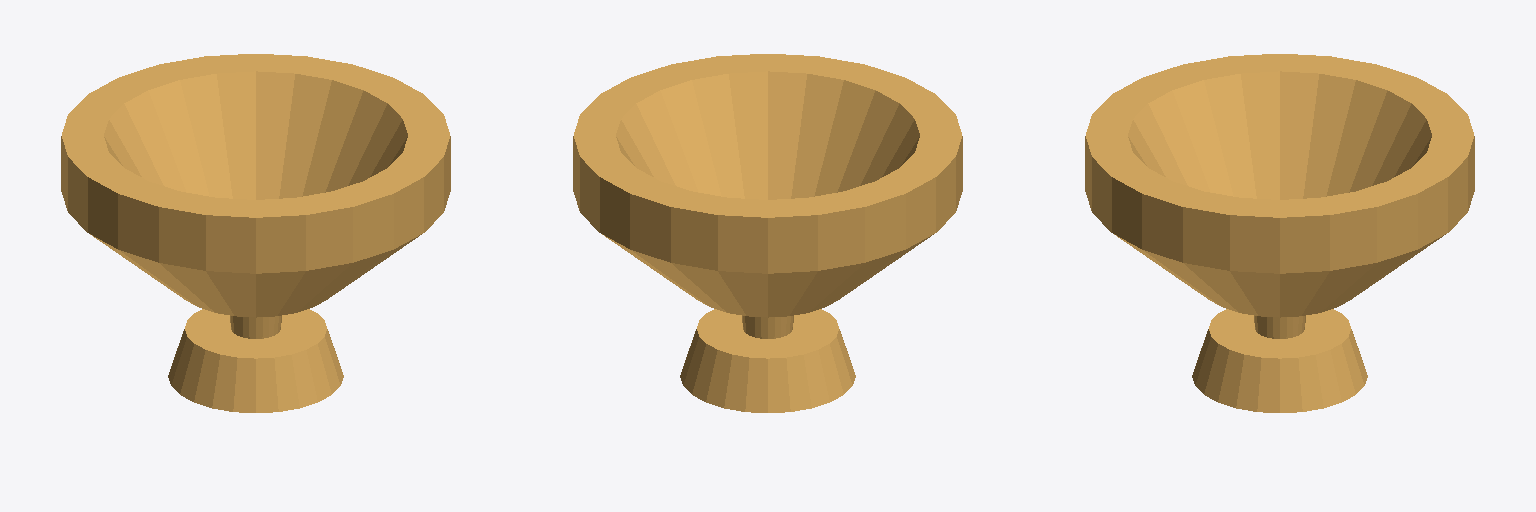
The model's file is detailBowl.obj.
3 renders of one model, left to right at view 1: azimuth 30°, elevation 25°; view 2: azimuth 150°, elevation 25°; view 3: azimuth 270°, elevation 25°, orthographic.
Visible parts, largest first — view 1: detailBowl; view 2: detailBowl; view 3: detailBowl.
Part boxes in pixels (left/top/right/bottom): detailBowl: left=61, top=54, right=450, bottom=412; detailBowl: left=573, top=54, right=962, bottom=412; detailBowl: left=1085, top=54, right=1474, bottom=412.
Size of the model in its own units: 0.1587 by 0.1083 by 0.1587.